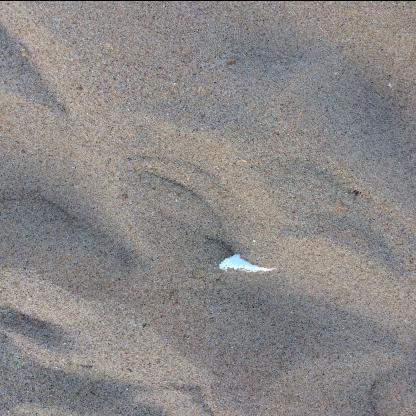kopuk: (220, 254, 278, 272)
